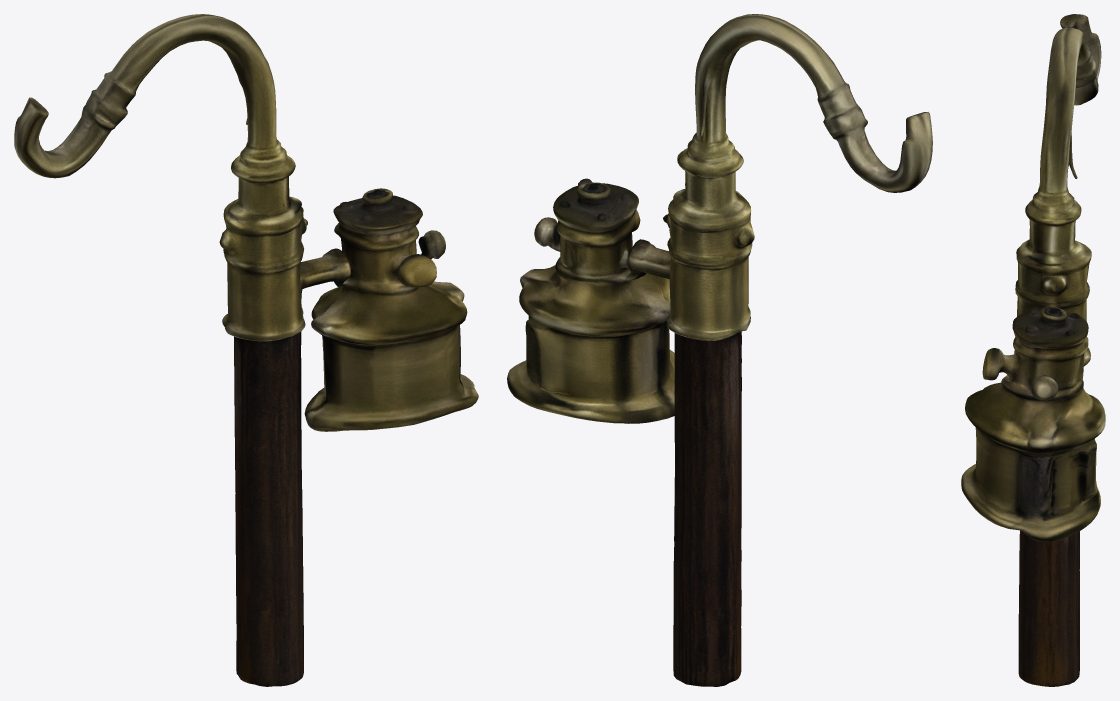
Rendered from weapon_lamplighter_pole.glb.
3 views of the same model, side by side, from view 1: azimuth 30°, elevation 25°; view 2: azimuth 150°, elevation 25°; view 3: azimuth 270°, elevation 25° (orthographic). The views are drawn at different scales.
Size of the model in its own units: 1.19 by 1.75 by 0.3772.
1 material, 1 textured.
